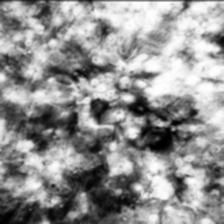Potentially Malignant Skin Tumors: (130, 104, 196, 158)
